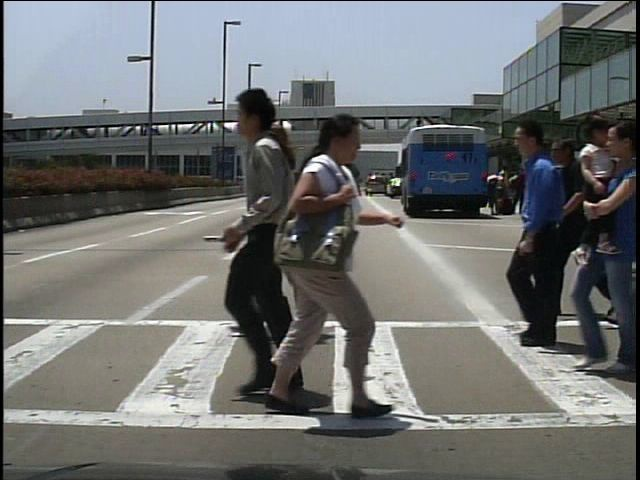person: (195, 83, 359, 410), (247, 113, 381, 422), (224, 118, 353, 346), (488, 115, 592, 348), (535, 130, 607, 322), (582, 168, 602, 218), (486, 161, 504, 214), (508, 166, 526, 216)
